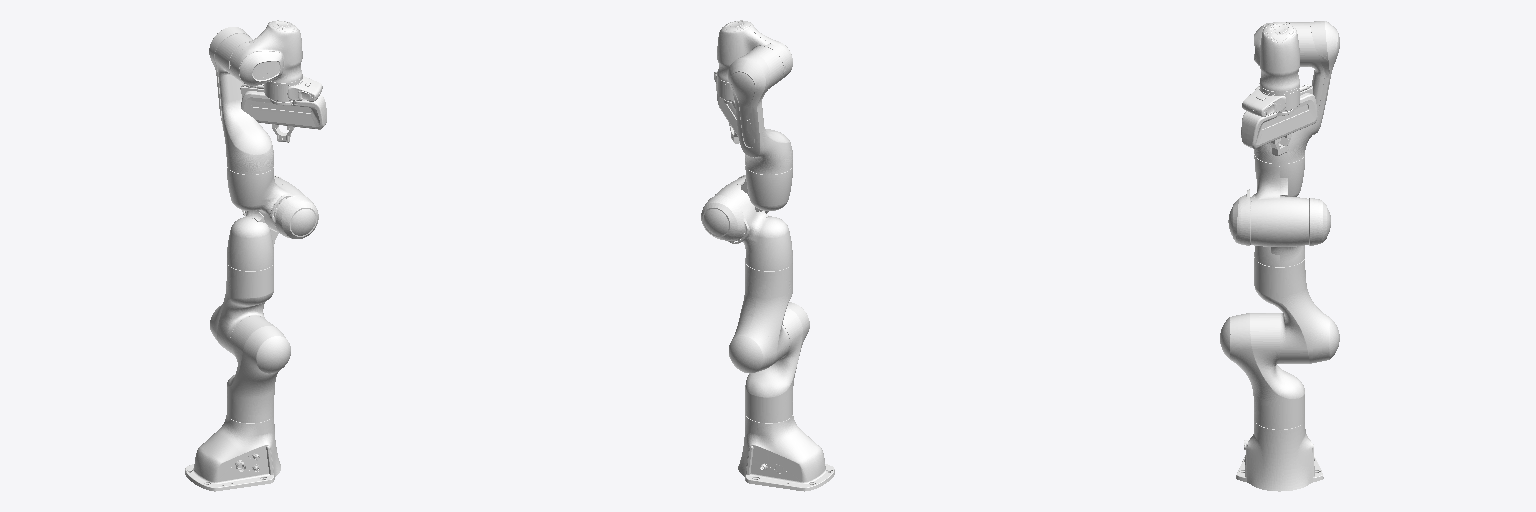
The robot description file, URDF, robot "panda":
<?xml version="1.0" encoding="utf-8"?>
<robot name="panda">
  <link name="world"/>
  <joint name="panda_joint_world" type="fixed">
    <parent link="world"/>
    <child link="panda_link0"/>
    <origin rpy="0 0 0" xyz="0 0 0"/>
  </joint>
  <link name="panda_link0">
    <inertial>
      <mass value="2.92"/>
      <origin rpy="0 0 0" xyz="-0.025566 -2.88e-05 0.057332"/>
      <inertia ixx="0.00782229414331" ixy="-1.56191622996e-05" ixz="-0.00126005738123" iyy="0.0109027971813" iyz="1.08233858202e-05" izz="0.0102355503949"/>
    </inertial>
    <visual>
      <origin rpy="0 0 0" xyz="0 0 0"/>
      <geometry>
        <mesh filename="package://relaxed_ik/src/RelaxedIK/urdfs/meshes/visual/link0.dae"/>
      </geometry>
      <material name="">
        <color rgba="1 1 1 1"/>
      </material>
    </visual>
    <collision>
      <origin rpy="0 0 0" xyz="0 0 0"/>
      <geometry>
        <mesh filename="package://relaxed_ik/src/RelaxedIK/urdfs/meshes/collision/link0.stl"/>
      </geometry>
    </collision>
  </link>
  <link name="panda_link1">
    <inertial>
      <mass value="2.74"/>
      <origin rpy="0 0 0" xyz="0 -0.0324958 -0.0675818"/>
      <inertia ixx="0.0180416958283" ixy="0.0" ixz="0.0" iyy="0.0159136071891" iyz="0.0046758424612" izz="0.00620690827127"/>
    </inertial>
    <visual>
      <origin rpy="0 0 0" xyz="0 0 0"/>
      <geometry>
        <mesh filename="package://relaxed_ik/src/RelaxedIK/urdfs/meshes/visual/link1.dae"/>
      </geometry>
      <material name="">
        <color rgba="1 1 1 1"/>
      </material>
    </visual>
    <collision>
      <origin rpy="0 0 0" xyz="0 0 0"/>
      <geometry>
        <mesh filename="package://relaxed_ik/src/RelaxedIK/urdfs/meshes/collision/link1.stl"/>
      </geometry>
    </collision>
  </link>
  <joint name="panda_joint1" type="revolute">
    <origin rpy="0 0 0" xyz="0 0 0.333"/>
    <parent link="panda_link0"/>
    <child link="panda_link1"/>
    <axis xyz="0 0 1"/>
    <limit effort="87" lower="-2.8973" upper="2.8973" velocity="2.1750"/>
  </joint>
  <link name="panda_link2">
    <inertial>
      <mass value="2.74"/>
      <origin rpy="0 0 0" xyz="0 -0.06861 0.0322285"/>
      <inertia ixx="0.0182856182281" ixy="0.0" ixz="0.0" iyy="0.00621358421175" iyz="-0.00472844221905" izz="0.0161514346309"/>
    </inertial>
    <visual>
      <origin rpy="0 0 0" xyz="0 0 0"/>
      <geometry>
        <mesh filename="package://relaxed_ik/src/RelaxedIK/urdfs/meshes/visual/link2.dae"/>
      </geometry>
      <material name="">
        <color rgba="1 1 1 1"/>
      </material>
    </visual>
    <collision>
      <origin rpy="0 0 0" xyz="0 0 0"/>
      <geometry>
        <mesh filename="package://relaxed_ik/src/RelaxedIK/urdfs/meshes/collision/link2.stl"/>
      </geometry>
    </collision>
  </link>
  <joint name="panda_joint2" type="revolute">
    <origin rpy="-1.57079632679 0 0" xyz="0 0 0"/>
    <parent link="panda_link1"/>
    <child link="panda_link2"/>
    <axis xyz="0 0 1"/>
    <limit effort="87" lower="-1.7628" upper="1.7628" velocity="2.1750"/>
  </joint>
  <link name="panda_link3">
    <inertial>
      <mass value="2.38"/>
      <origin rpy="0 0 0" xyz="0.0469893 0.0316374 -0.031704"/>
      <inertia ixx="0.00771376630908" ixy="-0.00248490625138" ixz="-0.00332147581033" iyy="0.00989108008727" iyz="-0.00217796151484" izz="0.00811723558464"/>
    </inertial>
    <visual>
      <origin rpy="0 0 0" xyz="0 0 0"/>
      <geometry>
        <mesh filename="package://relaxed_ik/src/RelaxedIK/urdfs/meshes/visual/link3.dae"/>
      </geometry>
      <material name="">
        <color rgba="1 1 1 1"/>
      </material>
    </visual>
    <collision>
      <origin rpy="0 0 0" xyz="0 0 0"/>
      <geometry>
        <mesh filename="package://relaxed_ik/src/RelaxedIK/urdfs/meshes/collision/link3.stl"/>
      </geometry>
    </collision>
  </link>
  <joint name="panda_joint3" type="revolute">
    <origin rpy="1.57079632679 0 0" xyz="0 -0.316 0"/>
    <parent link="panda_link2"/>
    <child link="panda_link3"/>
    <axis xyz="0 0 1"/>
    <limit effort="87" lower="-2.8973" upper="2.8973" velocity="2.1750"/>
  </joint>
  <link name="panda_link4">
    <inertial>
      <mass value="2.38"/>
      <origin rpy="0 0 0" xyz="-0.0360446 0.0336853 0.031882"/>
      <inertia ixx="0.00799663881132" ixy="0.00347095570217" ixz="-0.00241222942995" iyy="0.00825390705278" iyz="0.00235774044121" izz="0.0102515004345"/>
    </inertial>
    <visual>
      <origin rpy="0 0 0" xyz="0 0 0"/>
      <geometry>
        <mesh filename="package://relaxed_ik/src/RelaxedIK/urdfs/meshes/visual/link4.dae"/>
      </geometry>
      <material name="">
        <color rgba="1 1 1 1"/>
      </material>
    </visual>
    <collision>
      <origin rpy="0 0 0" xyz="0 0 0"/>
      <geometry>
        <mesh filename="package://relaxed_ik/src/RelaxedIK/urdfs/meshes/collision/link4.stl"/>
      </geometry>
    </collision>
  </link>
  <joint name="panda_joint4" type="revolute">
    <origin rpy="1.57079632679 0 0" xyz="0.0825 0 0"/>
    <parent link="panda_link3"/>
    <child link="panda_link4"/>
    <axis xyz="0 0 1"/>
    <limit effort="87" lower="-3.0718" upper="0.0698" velocity="2.1750"/>
    <!-- upper should be -0.0698, but that brakes simulation when initial position for this joint is 0.0 -->
  </joint>
  <link name="panda_link5">
    <inertial>
      <mass value="2.74"/>
      <origin rpy="0 0 0" xyz="0 0.0610427 -0.104176"/>
      <inertia ixx="0.030371374513" ixy="6.50283587108e-07" ixz="-1.05129179916e-05" iyy="0.0288752887402" iyz="-0.00775653445787" izz="0.00444134056164"/>
    </inertial>
    <visual>
      <origin rpy="0 0 0" xyz="0 0 0"/>
      <geometry>
        <mesh filename="package://relaxed_ik/src/RelaxedIK/urdfs/meshes/visual/link5.dae"/>
      </geometry>
      <material name="">
        <color rgba="1 1 1 1"/>
      </material>
    </visual>
    <collision>
      <origin rpy="0 0 0" xyz="0 0 0"/>
      <geometry>
        <mesh filename="package://relaxed_ik/src/RelaxedIK/urdfs/meshes/collision/link5.stl"/>
      </geometry>
    </collision>
  </link>
  <joint name="panda_joint5" type="revolute">
    <origin rpy="-1.57079632679 0 0" xyz="-0.0825 0.384 0"/>
    <parent link="panda_link4"/>
    <child link="panda_link5"/>
    <axis xyz="0 0 1"/>
    <limit effort="12" lower="-2.8973" upper="2.8973" velocity="2.6100"/>
  </joint>
  <link name="panda_link6">
    <inertial>
      <mass value="1.55"/>
      <origin rpy="0 0 0" xyz="0.0510509 0.009108 0.0106343"/>
      <inertia ixx="0.00303336450376" ixy="-0.000437276865508" ixz="0.000629257294877" iyy="0.00404479911567" iyz="0.000130472021025" izz="0.00558234286039"/>
    </inertial>
    <visual>
      <origin rpy="0 0 0" xyz="0 0 0"/>
      <geometry>
        <mesh filename="package://relaxed_ik/src/RelaxedIK/urdfs/meshes/visual/link6.dae"/>
      </geometry>
      <material name="">
        <color rgba="1 1 1 1"/>
      </material>
    </visual>
    <collision>
      <origin rpy="0 0 0" xyz="0 0 0"/>
      <geometry>
        <mesh filename="package://relaxed_ik/src/RelaxedIK/urdfs/meshes/collision/link6.stl"/>
      </geometry>
    </collision>
  </link>
  <joint name="panda_joint6" type="revolute">
    <origin rpy="1.57079632679 0 0" xyz="0 0 0"/>
    <parent link="panda_link5"/>
    <child link="panda_link6"/>
    <axis xyz="0 0 1"/>
    <limit effort="12" lower="-0.0175" upper="3.7525" velocity="2.6100"/>
  </joint>
  <link name="panda_link7">
    <inertial>
      <mass value="0.54"/>
      <origin rpy="0 0 0" xyz="0.0109695 0.0107965 0.0650411"/>
      <inertia ixx="0.000888868887021" ixy="-0.00012239074652" ixz="3.98699829666e-05" iyy="0.000888001373233" iyz="-9.33825115206e-05" izz="0.0007176834609"/>
    </inertial>
    <visual>
      <origin rpy="0 0 0" xyz="0 0 0"/>
      <geometry>
        <mesh filename="package://relaxed_ik/src/RelaxedIK/urdfs/meshes/visual/link7.dae"/>
      </geometry>
      <material name="">
        <color rgba="1 1 1 1"/>
      </material>
    </visual>
    <collision>
      <origin rpy="0 0 0" xyz="0 0 0"/>
      <geometry>
        <mesh filename="package://relaxed_ik/src/RelaxedIK/urdfs/meshes/collision/link7.stl"/>
      </geometry>
    </collision>
  </link>
  <joint name="panda_joint7" type="revolute">
    <origin rpy="1.57079632679 0 0" xyz="0.088 0 0"/>
    <parent link="panda_link6"/>
    <child link="panda_link7"/>
    <axis xyz="0 0 1"/>
    <limit effort="12" lower="-2.8973" upper="2.8973" velocity="2.6100"/>
  </joint>
  <link name="panda_link8"/>
  <joint name="panda_joint8" type="fixed">
    <origin rpy="0 0 0" xyz="0 0 0.107"/>
    <parent link="panda_link7"/>
    <child link="panda_link8"/>
    <axis xyz="0 0 0"/>
  </joint>
  <joint name="panda_hand_joint" type="fixed">
    <parent link="panda_link8"/>
    <child link="panda_hand"/>
    <origin rpy="0 0 -0.785398163397" xyz="0 0 0"/>
  </joint>
  <link name="panda_hand">
    <inertial>
      <mass value="0.73"/>
      <origin rpy="0 0 0" xyz="0 0.0015244 0.0275912"/>
      <inertia ixx="0.00278560230025" ixy="0.0" ixz="0.0" iyy="0.000400033405336" iyz="0.0" izz="0.00256378041832"/>
    </inertial>
    <visual>
      <origin rpy="0 0 0" xyz="0 0 0"/>
      <geometry>
        <mesh filename="package://relaxed_ik/src/RelaxedIK/urdfs/meshes/visual/hand.dae"/>
      </geometry>
      <material name="">
        <color rgba="1 1 1 1"/>
      </material>
    </visual>
    <collision>
      <origin rpy="0 0 0" xyz="0 0 0"/>
      <geometry>
        <mesh filename="package://relaxed_ik/src/RelaxedIK/urdfs/meshes/collision/hand.stl"/>
      </geometry>
    </collision>
  </link>
  <link name="panda_leftfinger">
    <inertial>
      <mass value="0.1"/>
      <origin rpy="0 0 0" xyz="0 0.0145644 0.0227941"/>
      <inertia ixx="3.01220925051e-05" ixy="0.0" ixz="0.0" iyy="2.95873808038e-05" iyz="0.0" izz="6.95125211657e-06"/>
    </inertial>
    <visual>
      <origin rpy="0 0 0" xyz="0 0 0"/>
      <geometry>
        <mesh filename="package://relaxed_ik/src/RelaxedIK/urdfs/meshes/visual/finger.dae"/>
      </geometry>
      <material name="">
        <color rgba="1 1 1 1"/>
      </material>
    </visual>
    <collision>
      <origin rpy="0 0 0" xyz="0 0 0"/>
      <geometry>
        <mesh filename="package://relaxed_ik/src/RelaxedIK/urdfs/meshes/collision/finger.stl"/>
      </geometry>
    </collision>
  </link>
  <link name="panda_rightfinger">
    <inertial>
      <mass value="0.1"/>
      <origin rpy="0 0 3.14159265359" xyz="0 0.0145644 0.0227941"/>
      <inertia ixx="3.01220925051e-05" ixy="0.0" ixz="0.0" iyy="2.95873808038e-05" iyz="0.0" izz="6.95125211657e-06"/>
    </inertial>
    <visual>
      <origin rpy="0 0 3.14159265359" xyz="0 0 0"/>
      <geometry>
        <mesh filename="package://relaxed_ik/src/RelaxedIK/urdfs/meshes/visual/finger.dae"/>
      </geometry>
      <material name="">
        <color rgba="1 1 1 1"/>
      </material>
    </visual>
    <collision>
      <origin rpy="0 0 3.14159265359" xyz="0 0 0"/>
      <geometry>
        <mesh filename="package://relaxed_ik/src/RelaxedIK/urdfs/meshes/collision/finger.stl"/>
      </geometry>
    </collision>
  </link>
  <joint name="panda_finger_joint1" type="prismatic">
    <parent link="panda_hand"/>
    <child link="panda_leftfinger"/>
    <origin rpy="0 0 0" xyz="0 0 0.0584"/>
    <axis xyz="0 1 0"/>
    <limit effort="20" lower="-0.001" upper="0.04" velocity="0.3"/>
  </joint>
  <joint name="panda_finger_joint2" type="prismatic">
    <parent link="panda_hand"/>
    <child link="panda_rightfinger"/>
    <origin rpy="0 0 0" xyz="0 0 0.0584"/>
    <axis xyz="0 -1 0"/>
    <limit effort="20" lower="-0.001" upper="0.04" velocity="0.3"/>
  </joint>
  <link name="end_effector_frame">
    <inertial>
      <!-- Dummy inertial parameters to avoid link lumping-->
      <mass value="0.01"/>
      <inertia ixx="0.0001" ixy="0.0" ixz="0.0" iyy="0.0001" iyz="0.0" izz="0.0001"/>
    </inertial>
  </link>
  <joint name="end_effector_frame_fixed_joint" type="fixed">
    <origin rpy="3.14159 -1.57079 -0.785398163397" xyz="0 0 0.21"/>
    <parent link="panda_link7"/>
    <child link="end_effector_frame"/>
  </joint>
  <gazebo reference="end_effector_frame_fixed_joint">
    <preserveFixedJoint>true</preserveFixedJoint>
    <!-- For compatibility with SDFormat < 4.4 -->
    <disableFixedJointLumping>true</disableFixedJointLumping>
  </gazebo>
</robot>

--- What the picture shows (computed from the rendered views, not written in the file) ---
Views: 3 orthographic renders of the robot side by side, from view 1: azimuth 30°, elevation 25°; view 2: azimuth 150°, elevation 25°; view 3: azimuth 270°, elevation 25°.
Model panda with 14 links and 13 joints (7 revolute, 2 prismatic, 4 fixed), rooted at world, posed every joint at zero.
Links seen in each view (by area): view 1: panda_link0, panda_link1, panda_link5, panda_link4, panda_link6, panda_link2, panda_link3, panda_hand, panda_link7; view 2: panda_link0, panda_link5, panda_link2, panda_link3, panda_link1, panda_link6, panda_link4; view 3: panda_link1, panda_link2, panda_link0, panda_link4, panda_link5, panda_link3, panda_link6, panda_hand, panda_link7.
Boxes of the visible links, x1,y1,x2,y2 form: panda_link0: [185, 415, 280, 491]; panda_link1: [227, 316, 290, 422]; panda_link5: [209, 27, 273, 174]; panda_link4: [227, 167, 318, 238]; panda_link6: [230, 20, 302, 85]; panda_link2: [210, 264, 273, 355]; panda_link3: [227, 175, 291, 270]; panda_hand: [240, 84, 326, 129]; panda_link7: [262, 76, 322, 102]; panda_link0: [738, 414, 834, 491]; panda_link5: [728, 46, 792, 174]; panda_link2: [729, 262, 792, 373]; panda_link3: [701, 184, 792, 270]; panda_link1: [745, 302, 809, 422]; panda_link6: [717, 20, 792, 81]; panda_link4: [726, 165, 792, 213]; panda_link1: [1220, 313, 1304, 429]; panda_link2: [1254, 257, 1339, 363]; panda_link0: [1236, 420, 1323, 491]; panda_link4: [1228, 154, 1304, 246]; panda_link5: [1254, 21, 1339, 163]; panda_link3: [1254, 196, 1330, 266]; panda_link6: [1254, 22, 1299, 91]; panda_hand: [1241, 84, 1317, 148]; panda_link7: [1242, 83, 1299, 116].
Bounding box of the posed robot: 0.3253 × 0.2593 × 1.11 m (x, y, z).
Meshes: 10 distinct files referenced, 11 mesh visuals loaded (10 Collada DAE).